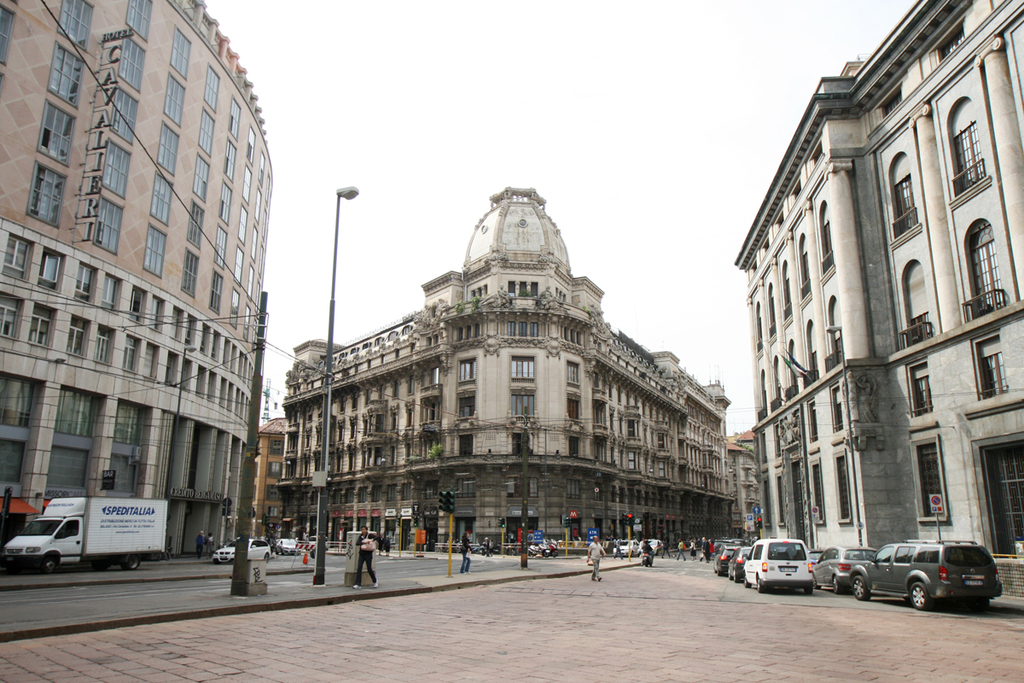mobil: (7, 504, 172, 579), (848, 540, 1010, 616), (750, 538, 817, 598), (215, 534, 272, 562)
